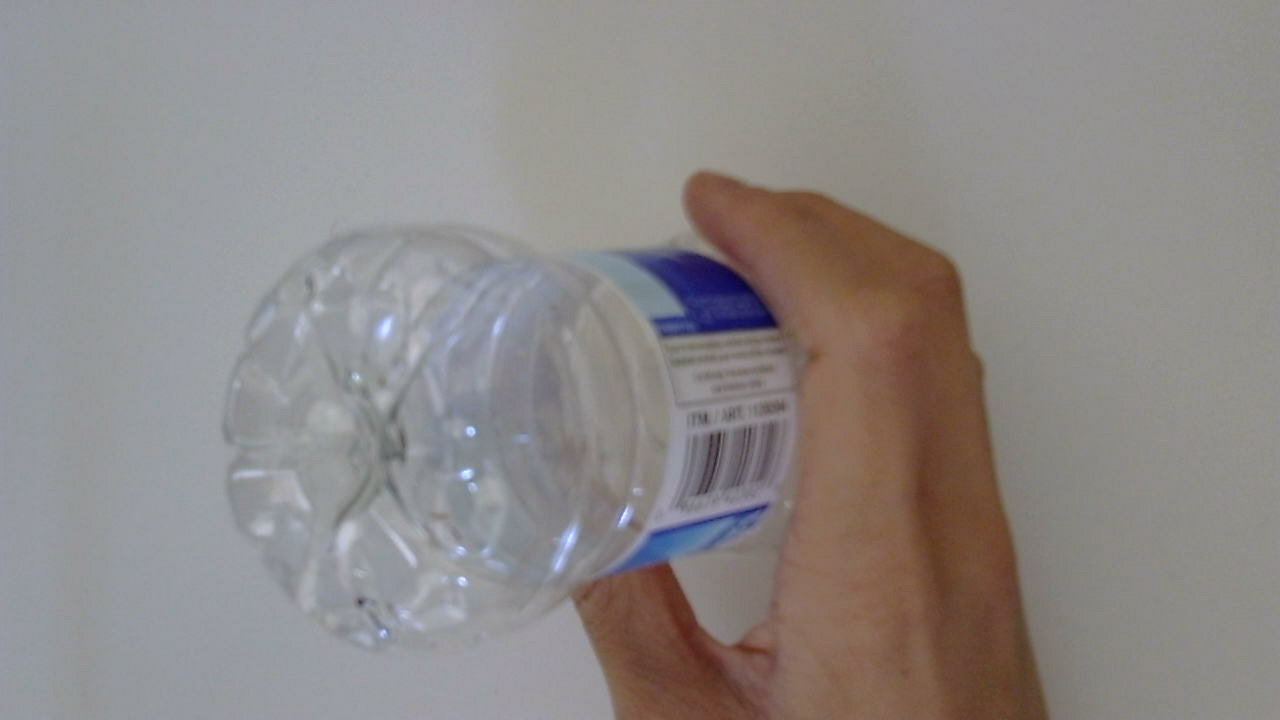Plastic Bottle: (214, 228, 814, 662)
